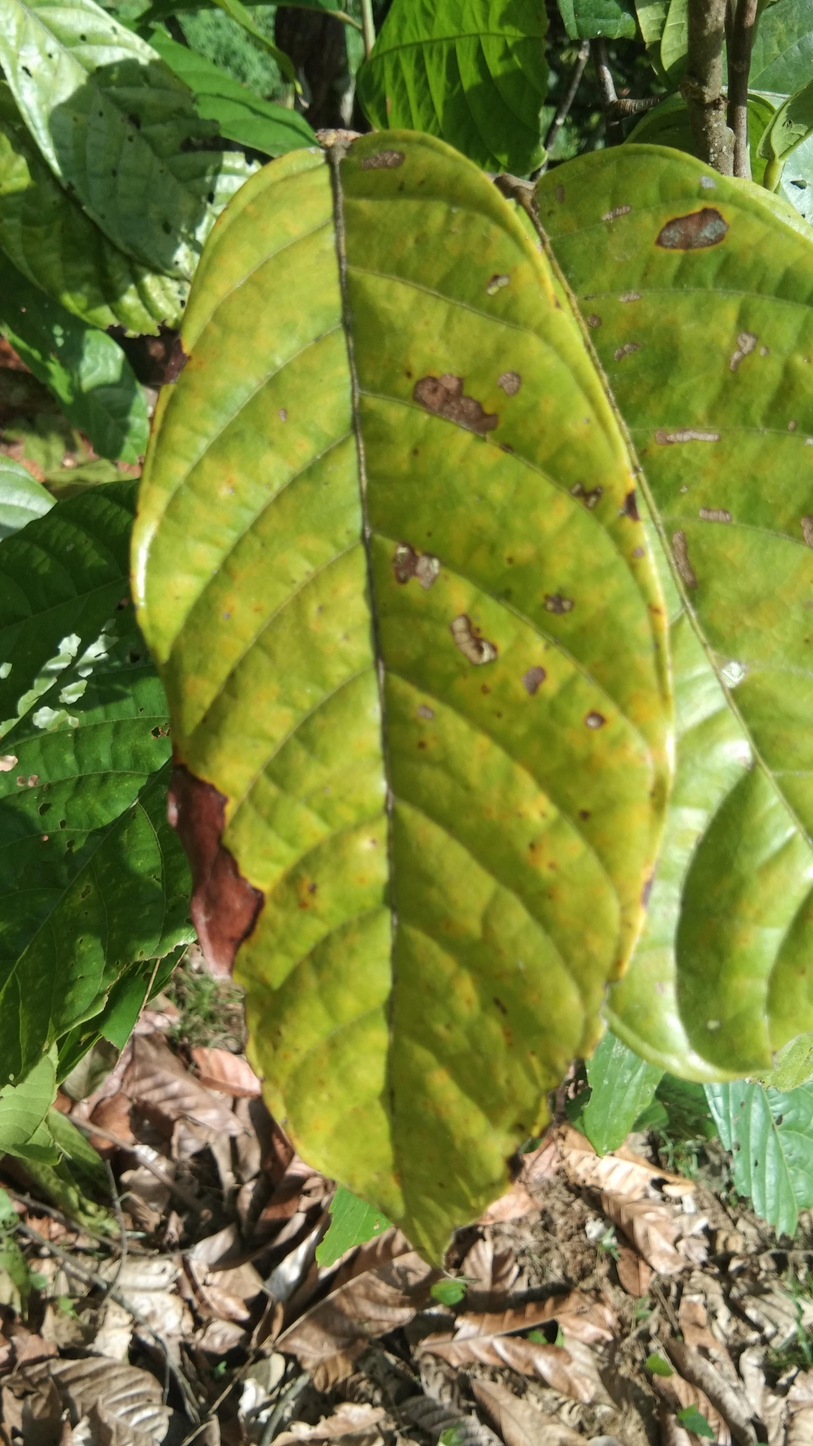deficiencia_potasio: (122, 117, 681, 1277)
